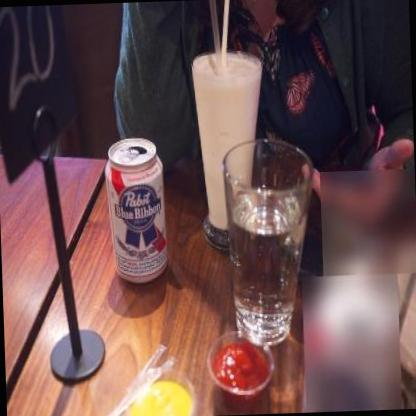alumunium_can: (104, 138, 170, 288)
objects: (223, 134, 318, 345), (191, 50, 270, 251)
